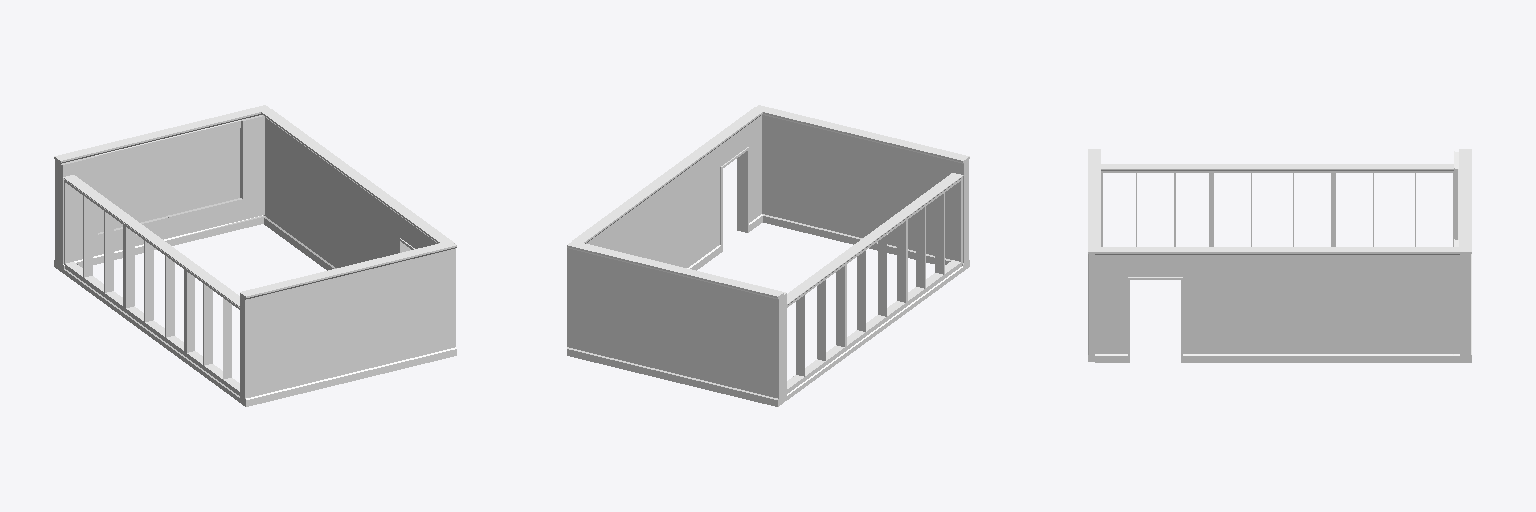
Rendered from Board_Room_Windows.obj.
3 views of the same model, side by side, from view 1: azimuth 30°, elevation 25°; view 2: azimuth 150°, elevation 25°; view 3: azimuth 270°, elevation 25° (orthographic).
Visible parts, largest first — view 1: Neo_WallDoorFrame_01_snaps001 (2); view 2: Neo_WallDoorFrame_01_snaps001 (2); view 3: Neo_WallDoorFrame_01_snaps001 (2).
Boxes of the visible parts, <box> form: Neo_WallDoorFrame_01_snaps001 (2): <box>54,105,456,406</box>; Neo_WallDoorFrame_01_snaps001 (2): <box>567,105,969,406</box>; Neo_WallDoorFrame_01_snaps001 (2): <box>1088,149,1471,362</box>.
Size of the model in its own units: 6.02 by 3 by 9.44.